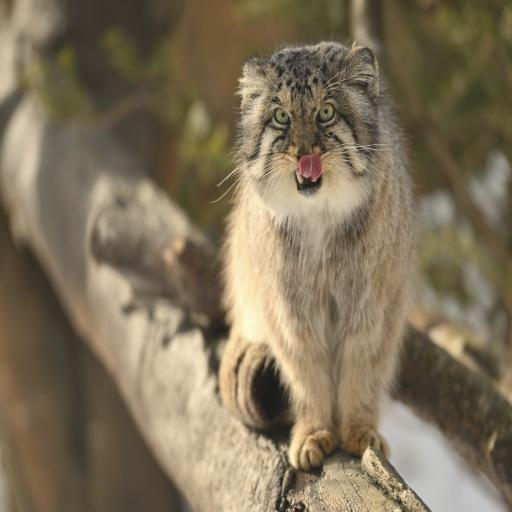manul: (220, 43, 414, 469)
